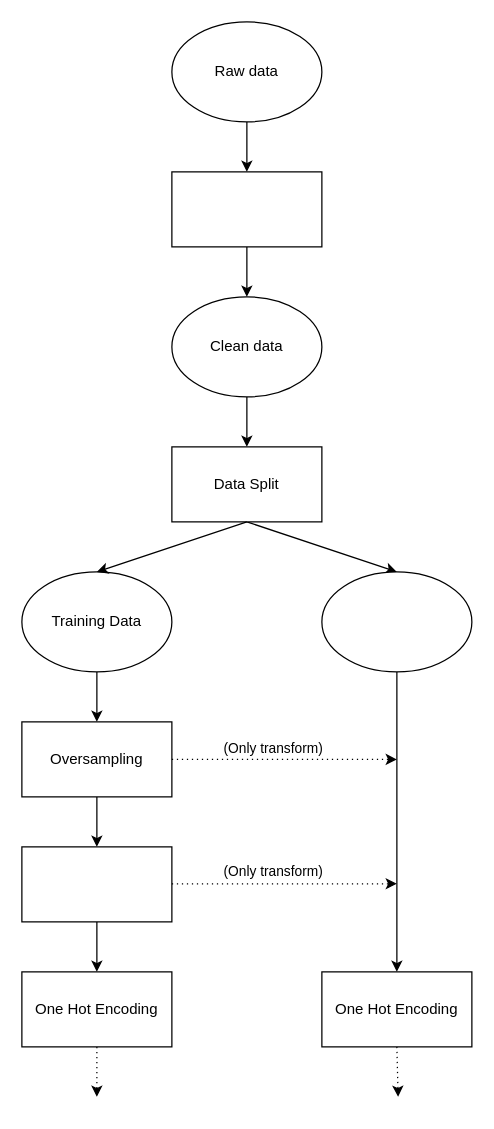
The diagram is 494 pixels wide and 1129 high, and some of its shapes have lost their labels. Each missing label, with the box of its shape:
Data Cleaning: (171, 171, 322, 247)
Scaling: (21, 846, 172, 922)
Test Data: (321, 571, 472, 672)
